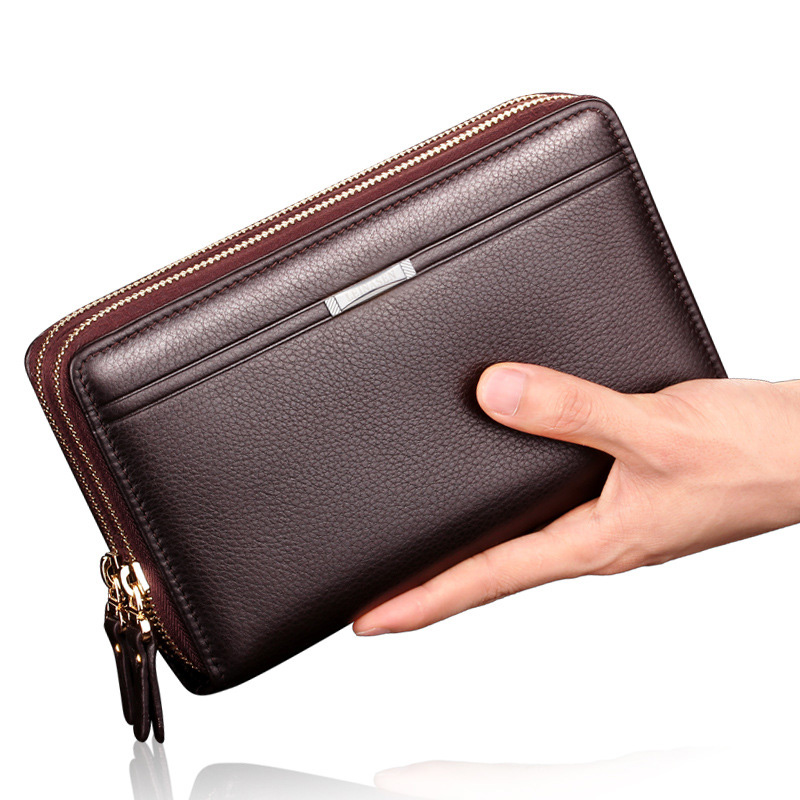monedero: (20, 89, 731, 696)
